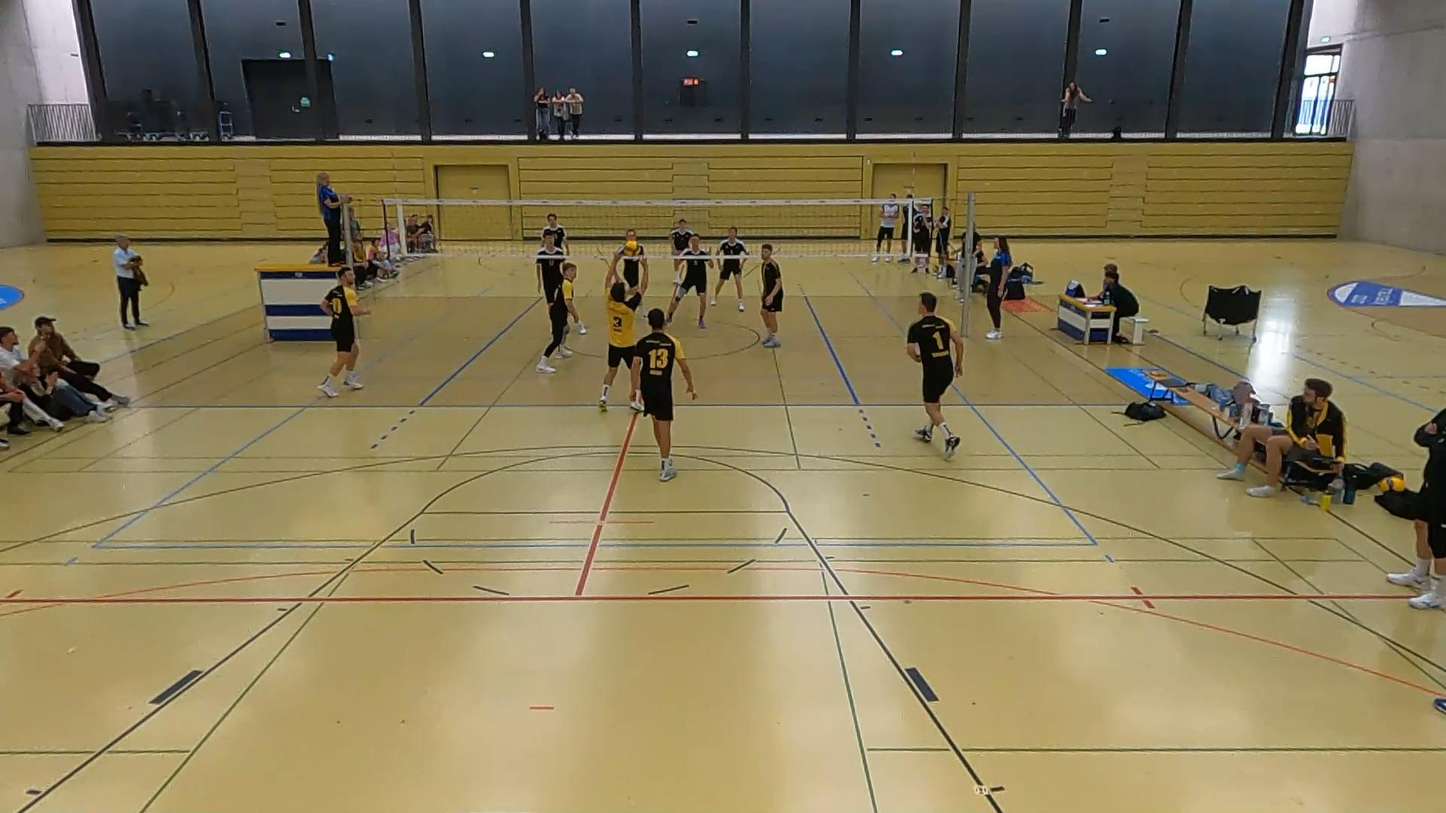Player: (632, 309, 697, 480), (906, 291, 962, 459), (319, 266, 369, 397), (536, 262, 576, 372), (666, 235, 712, 327), (709, 227, 747, 312), (604, 229, 647, 289), (761, 244, 783, 348), (536, 227, 566, 301), (669, 219, 694, 282)
Receive: (595, 245, 652, 414)
ball: (621, 236, 640, 260)
